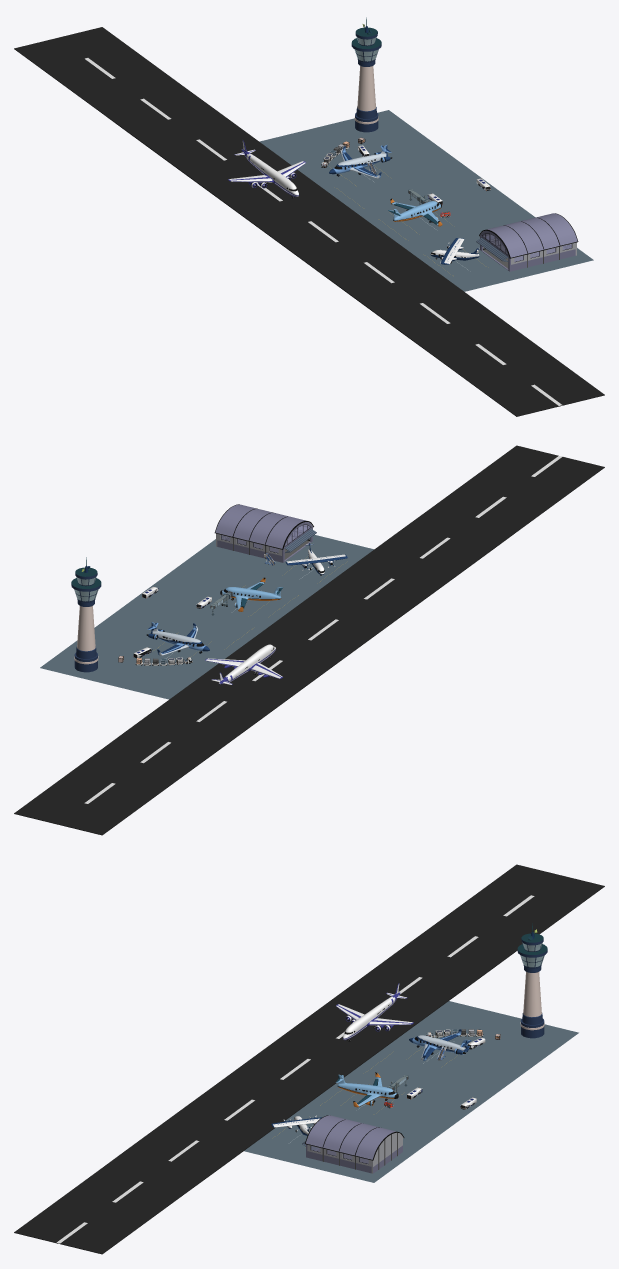
Rendered from exterior-detail.glb.
The picture shows the model from 3 angles, top to bottom: view 1: azimuth 30°, elevation 25°; view 2: azimuth 150°, elevation 25°; view 3: azimuth 330°, elevation 25°; orthographic projection.
Visible parts, largest first — view 1: AS|runway|RUNWAY/LandingTrack1Straight_AIRPORT_0, AS|apron|APRON/apron, AS|infrastructure|SRC-04.Hangar/04.Hangar_AIRPORT_0, AS|infrastructure|SRC-02.ControlTower/02.ControlTower_AIRPOR, AS|aircraft|AC-02/18.2.Airplane_AIRPORT_0, AS|aircraft|AC-03/18.3.Airplane_AIRPORT_0, AS|aircraft|AC-01/18.1.Airplane_AIRPORT_0, AS|aircraft|AC-04/18.4.Airplane_AIRPORT_0; view 2: AS|runway|RUNWAY/LandingTrack1Straight_AIRPORT_0, AS|apron|APRON/apron, AS|infrastructure|SRC-04.Hangar/04.Hangar_AIRPORT_0, AS|infrastructure|SRC-02.ControlTower/02.ControlTower_AIRPOR, AS|aircraft|AC-02/18.2.Airplane_AIRPORT_0, AS|aircraft|AC-03/18.3.Airplane_AIRPORT_0, AS|aircraft|AC-01/18.1.Airplane_AIRPORT_0, AS|aircraft|AC-04/18.4.Airplane_AIRPORT_0; view 3: AS|runway|RUNWAY/LandingTrack1Straight_AIRPORT_0, AS|apron|APRON/apron, AS|infrastructure|SRC-04.Hangar/04.Hangar_AIRPORT_0, AS|infrastructure|SRC-02.ControlTower/02.ControlTower_AIRPOR, AS|aircraft|AC-02/18.2.Airplane_AIRPORT_0, AS|aircraft|AC-01/18.1.Airplane_AIRPORT_0, AS|aircraft|AC-03/18.3.Airplane_AIRPORT_0.
Part boxes in pixels (x1,y1,x2,y2): AS|runway|RUNWAY/LandingTrack1Straight_AIRPORT_0: (14, 27, 604, 416); AS|apron|APRON/apron: (259, 110, 593, 291); AS|infrastructure|SRC-04.Hangar/04.Hangar_AIRPORT_0: (476, 213, 578, 271); AS|infrastructure|SRC-02.ControlTower/02.ControlTower_AIRPOR: (351, 17, 381, 132); AS|aircraft|AC-02/18.2.Airplane_AIRPORT_0: (228, 140, 305, 198); AS|aircraft|AC-03/18.3.Airplane_AIRPORT_0: (329, 145, 392, 178); AS|aircraft|AC-01/18.1.Airplane_AIRPORT_0: (388, 198, 442, 226); AS|aircraft|AC-04/18.4.Airplane_AIRPORT_0: (430, 238, 479, 264); AS|runway|RUNWAY/LandingTrack1Straight_AIRPORT_0: (14, 445, 604, 835); AS|apron|APRON/apron: (40, 535, 373, 699); AS|infrastructure|SRC-04.Hangar/04.Hangar_AIRPORT_0: (214, 504, 316, 562); AS|infrastructure|SRC-02.ControlTower/02.ControlTower_AIRPOR: (71, 557, 101, 672); AS|aircraft|AC-02/18.2.Airplane_AIRPORT_0: (205, 644, 282, 684); AS|aircraft|AC-03/18.3.Airplane_AIRPORT_0: (146, 622, 209, 655); AS|aircraft|AC-01/18.1.Airplane_AIRPORT_0: (220, 577, 282, 611); AS|aircraft|AC-04/18.4.Airplane_AIRPORT_0: (285, 543, 347, 575); AS|runway|RUNWAY/LandingTrack1Straight_AIRPORT_0: (14, 864, 604, 1254); AS|apron|APRON/apron: (244, 1001, 578, 1182); AS|infrastructure|SRC-04.Hangar/04.Hangar_AIRPORT_0: (302, 1115, 404, 1173); AS|infrastructure|SRC-02.ControlTower/02.ControlTower_AIRPOR: (517, 923, 547, 1038); AS|aircraft|AC-02/18.2.Airplane_AIRPORT_0: (336, 983, 413, 1041); AS|aircraft|AC-01/18.1.Airplane_AIRPORT_0: (336, 1072, 398, 1107); AS|aircraft|AC-03/18.3.Airplane_AIRPORT_0: (409, 1029, 472, 1060).
Bounding box in the file's own units: 203 × 101 × 808.
Materials: 4 (1 with a texture image).
